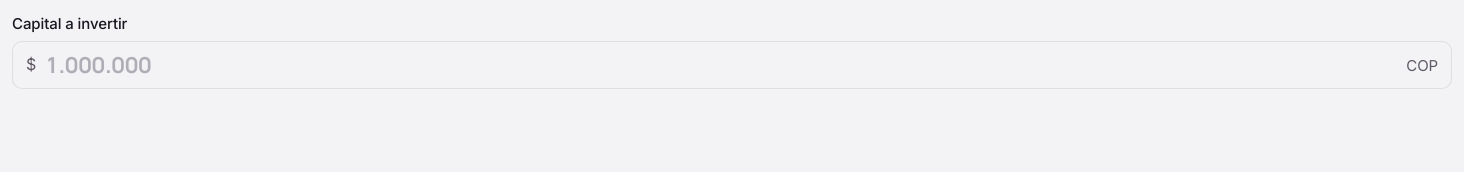
Test: CapitalInput › acepta solo dígitos y muestra separadores de miles
Step 1. Type "01a2b5000.00" into the field labelled "Capital a invertir" → (732, 65), box [12, 41, 1452, 89]
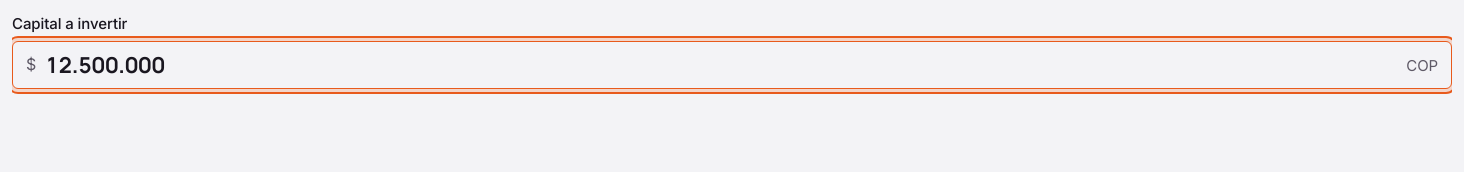
Now the field labelled "Capital a invertir" holds "12.500.000", box [12, 41, 1452, 89]
